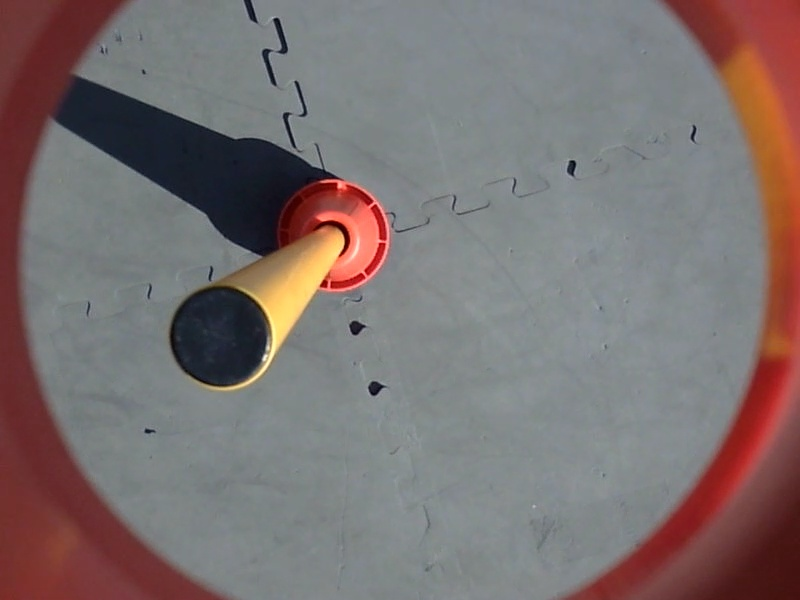tip: (167, 273, 288, 396)
